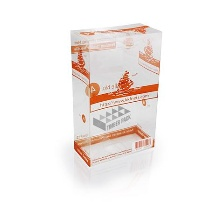plastic_box: (59, 12, 169, 175)
